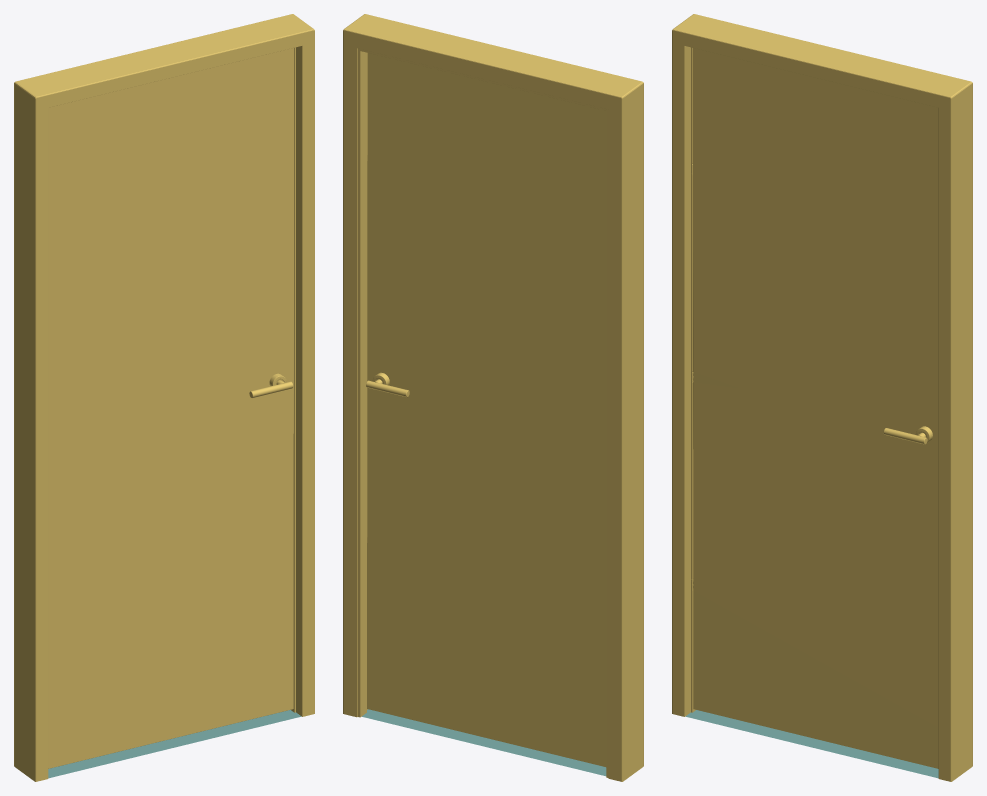
The model's file is Door_plain.fbx.
3 renders of one model, left to right at view 1: azimuth 30°, elevation 25°; view 2: azimuth 150°, elevation 25°; view 3: azimuth 330°, elevation 25°, orthographic.
Parts seen in each view (by area): view 1: Door, Doorframe, Door_floor_cover; view 2: Door, Doorframe, Door_floor_cover; view 3: Door, Doorframe, Door_floor_cover.
Part boxes in pixels (box(x1,y1,x2,y2)): Door: box(48, 48, 293, 768); Doorframe: box(14, 14, 314, 781); Door_floor_cover: box(48, 710, 301, 778); Door: box(367, 53, 606, 766); Doorframe: box(343, 14, 643, 781); Door_floor_cover: box(362, 709, 606, 776); Door: box(693, 48, 938, 768); Doorframe: box(672, 14, 972, 781); Door_floor_cover: box(685, 710, 938, 778).
Bounding box in the file's own units: 0.8942 × 2.09 × 0.1443.
